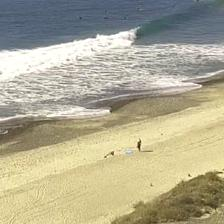surfer: (124, 16, 130, 20), (104, 16, 109, 18), (137, 7, 140, 10), (196, 0, 200, 2), (80, 17, 83, 19), (105, 10, 107, 13)
